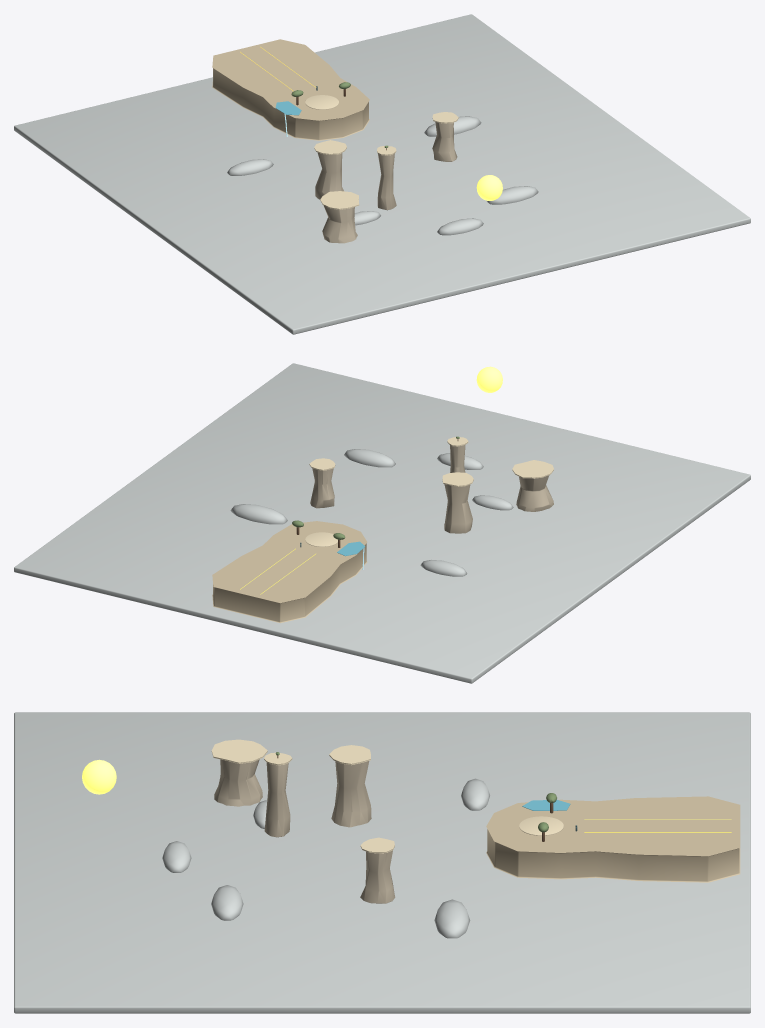
The model's file is olive-cloudbreak-graybox-r2.glb.
3 renders of one model, top to bottom at view 1: azimuth 30°, elevation 25°; view 2: azimuth 150°, elevation 25°; view 3: azimuth 270°, elevation 25°, orthographic. The views are drawn at different scales.
Parts seen in each view (by area): view 1: Cloudbreak_CloudOcean, Cloudbreak_Landmass, Cloudbreak_Mesa_far-right-shelf_Body, Cloudbreak_Mesa_right-fall_Body, Cloudbreak_Mesa_high-olive_Body, Cloudbreak_Mesa_left-fall_Body, Cloudbreak_Mesa_far-right-shelf_Top, Cloudbreak_CloudBank_4, Cloudbreak_FarSun, Cloudbreak_CloudBank_5, Cloudbreak_CloudBank_1; view 2: Cloudbreak_CloudOcean, Cloudbreak_Landmass, Cloudbreak_Mesa_right-fall_Body, Cloudbreak_Mesa_far-right-shelf_Body, Cloudbreak_Mesa_left-fall_Body, Cloudbreak_CloudBank_2, Cloudbreak_CloudBank_4, Cloudbreak_Mesa_far-right-shelf_Top, Cloudbreak_FarSun, Cloudbreak_CloudBank_1; view 3: Cloudbreak_CloudOcean, Cloudbreak_Landmass, Cloudbreak_Mesa_right-fall_Body, Cloudbreak_Mesa_far-right-shelf_Body, Cloudbreak_Mesa_high-olive_Body, Cloudbreak_Mesa_left-fall_Body, Cloudbreak_CloudBank_2, Cloudbreak_Mesa_far-right-shelf_Top, Cloudbreak_FarSun, Cloudbreak_CloudBank_4, Cloudbreak_CloudBank_1, Cloudbreak_CloudBank_5 (+2 smaller).
Boxes of the visible parts, x1=… form: Cloudbreak_CloudOcean: x1=14, y1=14, x2=750, y2=334; Cloudbreak_Landmass: x1=212, y1=39, x2=369, y2=140; Cloudbreak_Mesa_far-right-shelf_Body: x1=322, y1=205, x2=357, y2=243; Cloudbreak_Mesa_right-fall_Body: x1=315, y1=152, x2=343, y2=199; Cloudbreak_Mesa_high-olive_Body: x1=377, y1=153, x2=396, y2=210; Cloudbreak_Mesa_left-fall_Body: x1=432, y1=122, x2=457, y2=161; Cloudbreak_Mesa_far-right-shelf_Top: x1=320, y1=191, x2=359, y2=209; Cloudbreak_CloudBank_4: x1=487, y1=186, x2=538, y2=204; Cloudbreak_FarSun: x1=476, y1=175, x2=502, y2=200; Cloudbreak_CloudBank_5: x1=437, y1=218, x2=483, y2=235; Cloudbreak_CloudBank_1: x1=227, y1=159, x2=273, y2=175; Cloudbreak_CloudOcean: x1=14, y1=363, x2=750, y2=683; Cloudbreak_Landmass: x1=212, y1=521, x2=367, y2=623; Cloudbreak_Mesa_right-fall_Body: x1=444, y1=484, x2=472, y2=533; Cloudbreak_Mesa_far-right-shelf_Body: x1=516, y1=475, x2=553, y2=511; Cloudbreak_Mesa_left-fall_Body: x1=310, y1=468, x2=334, y2=508; Cloudbreak_CloudBank_2: x1=230, y1=504, x2=287, y2=524; Cloudbreak_CloudBank_4: x1=344, y1=449, x2=395, y2=467; Cloudbreak_Mesa_far-right-shelf_Top: x1=512, y1=460, x2=553, y2=478; Cloudbreak_FarSun: x1=476, y1=366, x2=502, y2=392; Cloudbreak_CloudBank_1: x1=420, y1=560, x2=467, y2=576; Cloudbreak_CloudOcean: x1=14, y1=712, x2=750, y2=1013; Cloudbreak_Landmass: x1=486, y1=796, x2=740, y2=882; Cloudbreak_Mesa_right-fall_Body: x1=331, y1=761, x2=371, y2=827; Cloudbreak_Mesa_far-right-shelf_Body: x1=214, y1=759, x2=262, y2=806; Cloudbreak_Mesa_high-olive_Body: x1=264, y1=763, x2=290, y2=837; Cloudbreak_Mesa_left-fall_Body: x1=360, y1=850, x2=395, y2=903; Cloudbreak_CloudBank_2: x1=434, y1=899, x2=470, y2=938; Cloudbreak_Mesa_far-right-shelf_Top: x1=211, y1=739, x2=267, y2=763; Cloudbreak_FarSun: x1=82, y1=759, x2=116, y2=794; Cloudbreak_CloudBank_4: x1=211, y1=885, x2=243, y2=920; Cloudbreak_CloudBank_1: x1=461, y1=778, x2=489, y2=810; Cloudbreak_CloudBank_5: x1=162, y1=841, x2=191, y2=872.
Size of the model in its own units: 180 by 30.58 by 190.
